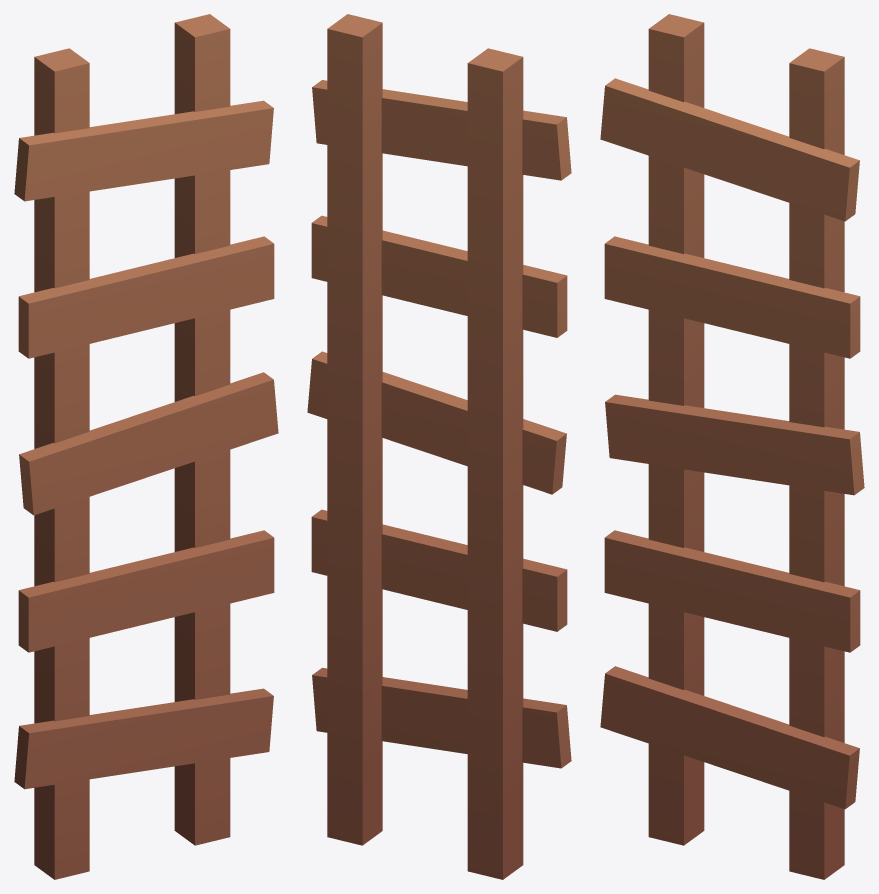
The model's file is ladder.glb.
The picture shows the model from 3 angles, left to right: view 1: azimuth 30°, elevation 25°; view 2: azimuth 150°, elevation 25°; view 3: azimuth 330°, elevation 25°; orthographic projection.
Visible parts, largest first — view 1: ladder; view 2: ladder; view 3: ladder.
Part boxes in pixels (left/top/right/bottom): ladder: left=14, top=14, right=278, bottom=879; ladder: left=307, top=14, right=571, bottom=879; ladder: left=600, top=14, right=864, bottom=879.
Bounding box in the file's own units: 0.2533 × 0.77 × 0.0508.
Materials: 1 (1 with a texture image).
